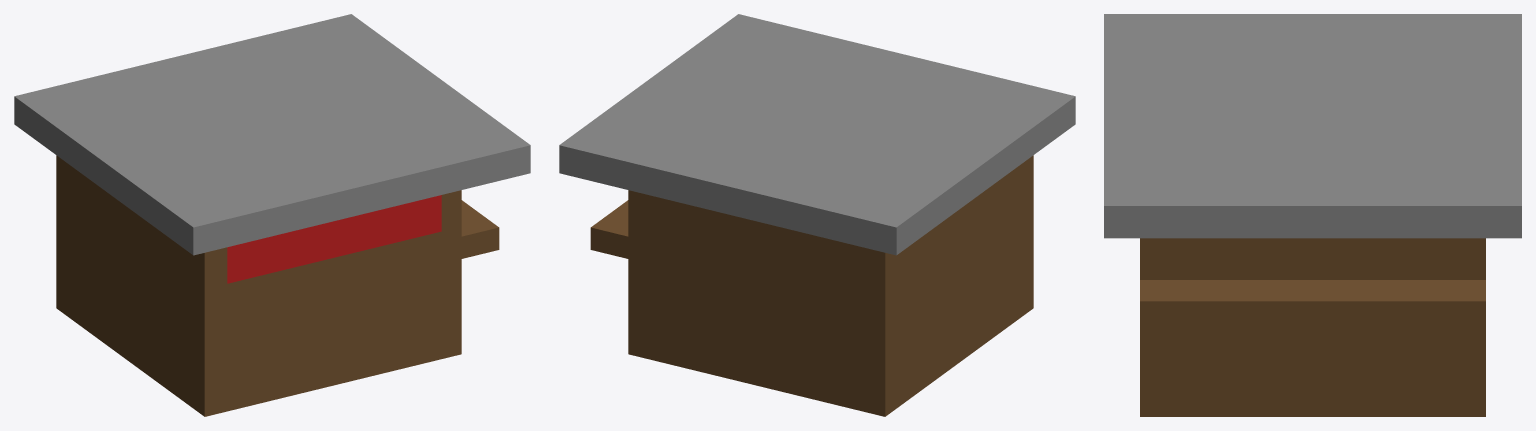
Rendered from burger_bar.obj.
3 views of the same model, side by side, from view 1: azimuth 30°, elevation 25°; view 2: azimuth 150°, elevation 25°; view 3: azimuth 270°, elevation 25° (orthographic). The views are drawn at different scales.
Size of the model in its own units: 3.15 by 1.85 by 2.9.
